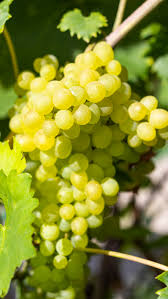grapes: (16, 57, 152, 270)
